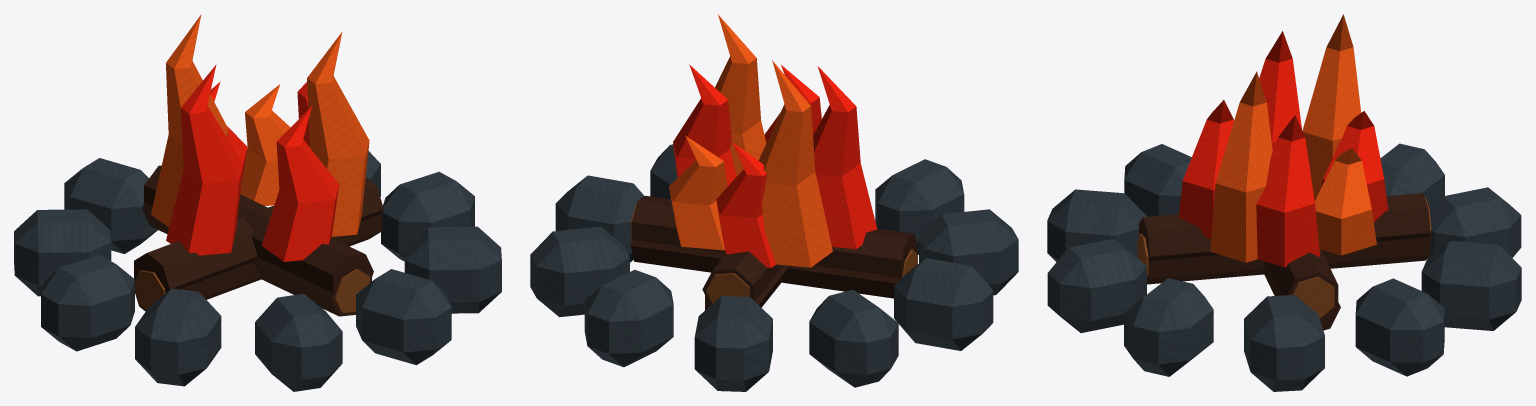
The model's file is StarEmberCampfire.fbx.
3 renders of one model, left to right at view 1: azimuth 30°, elevation 25°; view 2: azimuth 150°, elevation 25°; view 3: azimuth 270°, elevation 25°, orthographic.
Parts seen in each view (by area): view 1: StarEmberCampfire; view 2: StarEmberCampfire; view 3: StarEmberCampfire.
Part boxes in pixels (x1,y1,x2,y2): StarEmberCampfire: (14,14,501,391); StarEmberCampfire: (530,14,1018,391); StarEmberCampfire: (1047,14,1521,391).
Size of the model in its own units: 138 by 83.37 by 133.
Materials: 1 (1 with a texture image).
